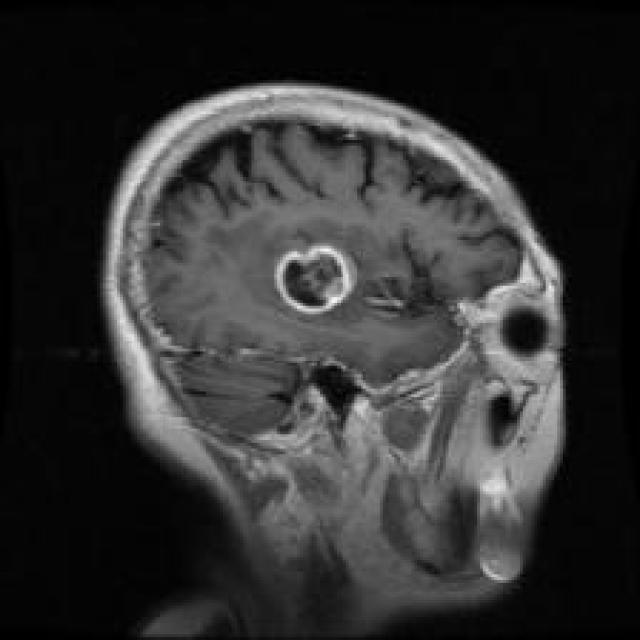glioma_tumor: (262, 226, 372, 325)
